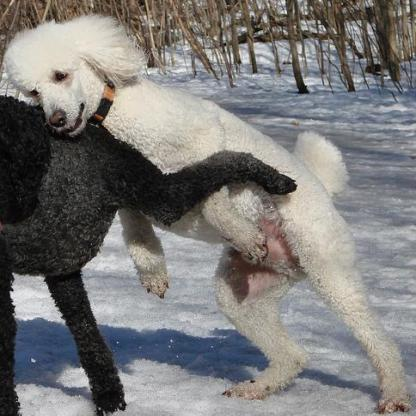standard_poodle: (0, 12, 409, 414), (0, 84, 297, 414)
